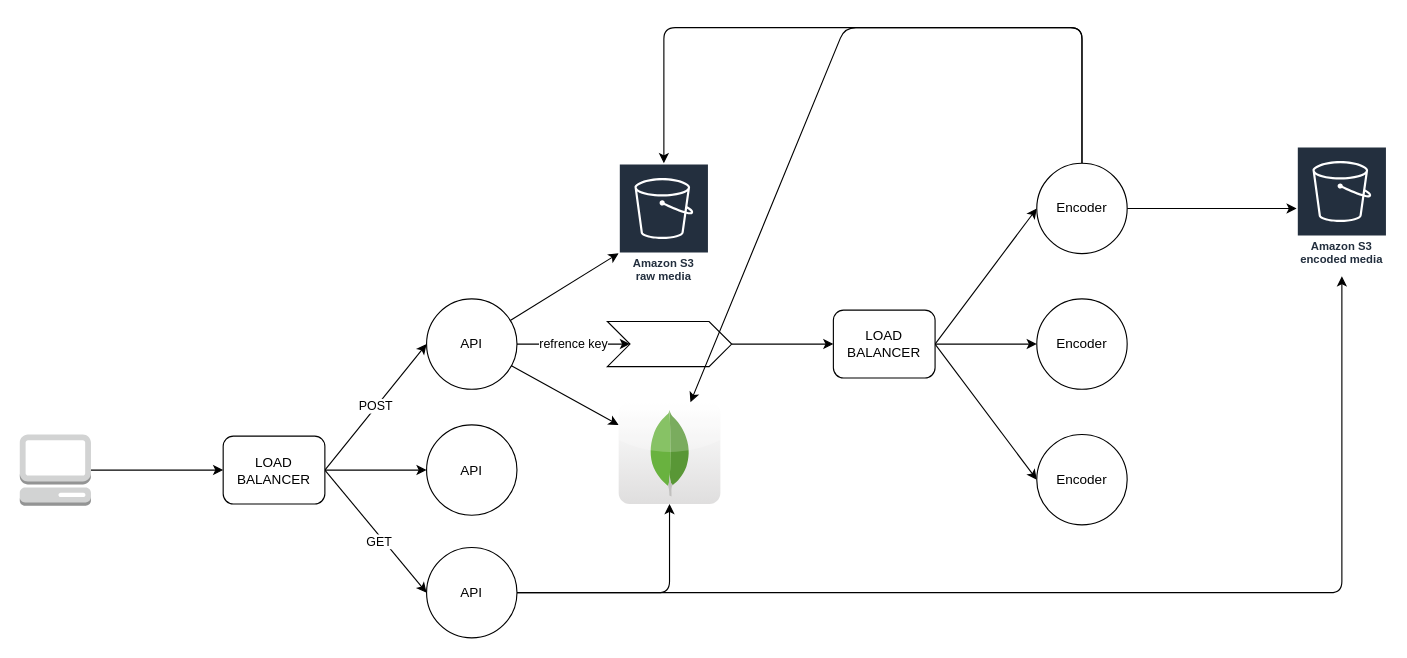
This 1407x658 diagram has some shape labels left out. The centre of each missing label's shape, as x and y in pixels:
Apache KAFKA: the point at 669,343
client: the point at 55,469
meta-data: the point at 669,452
